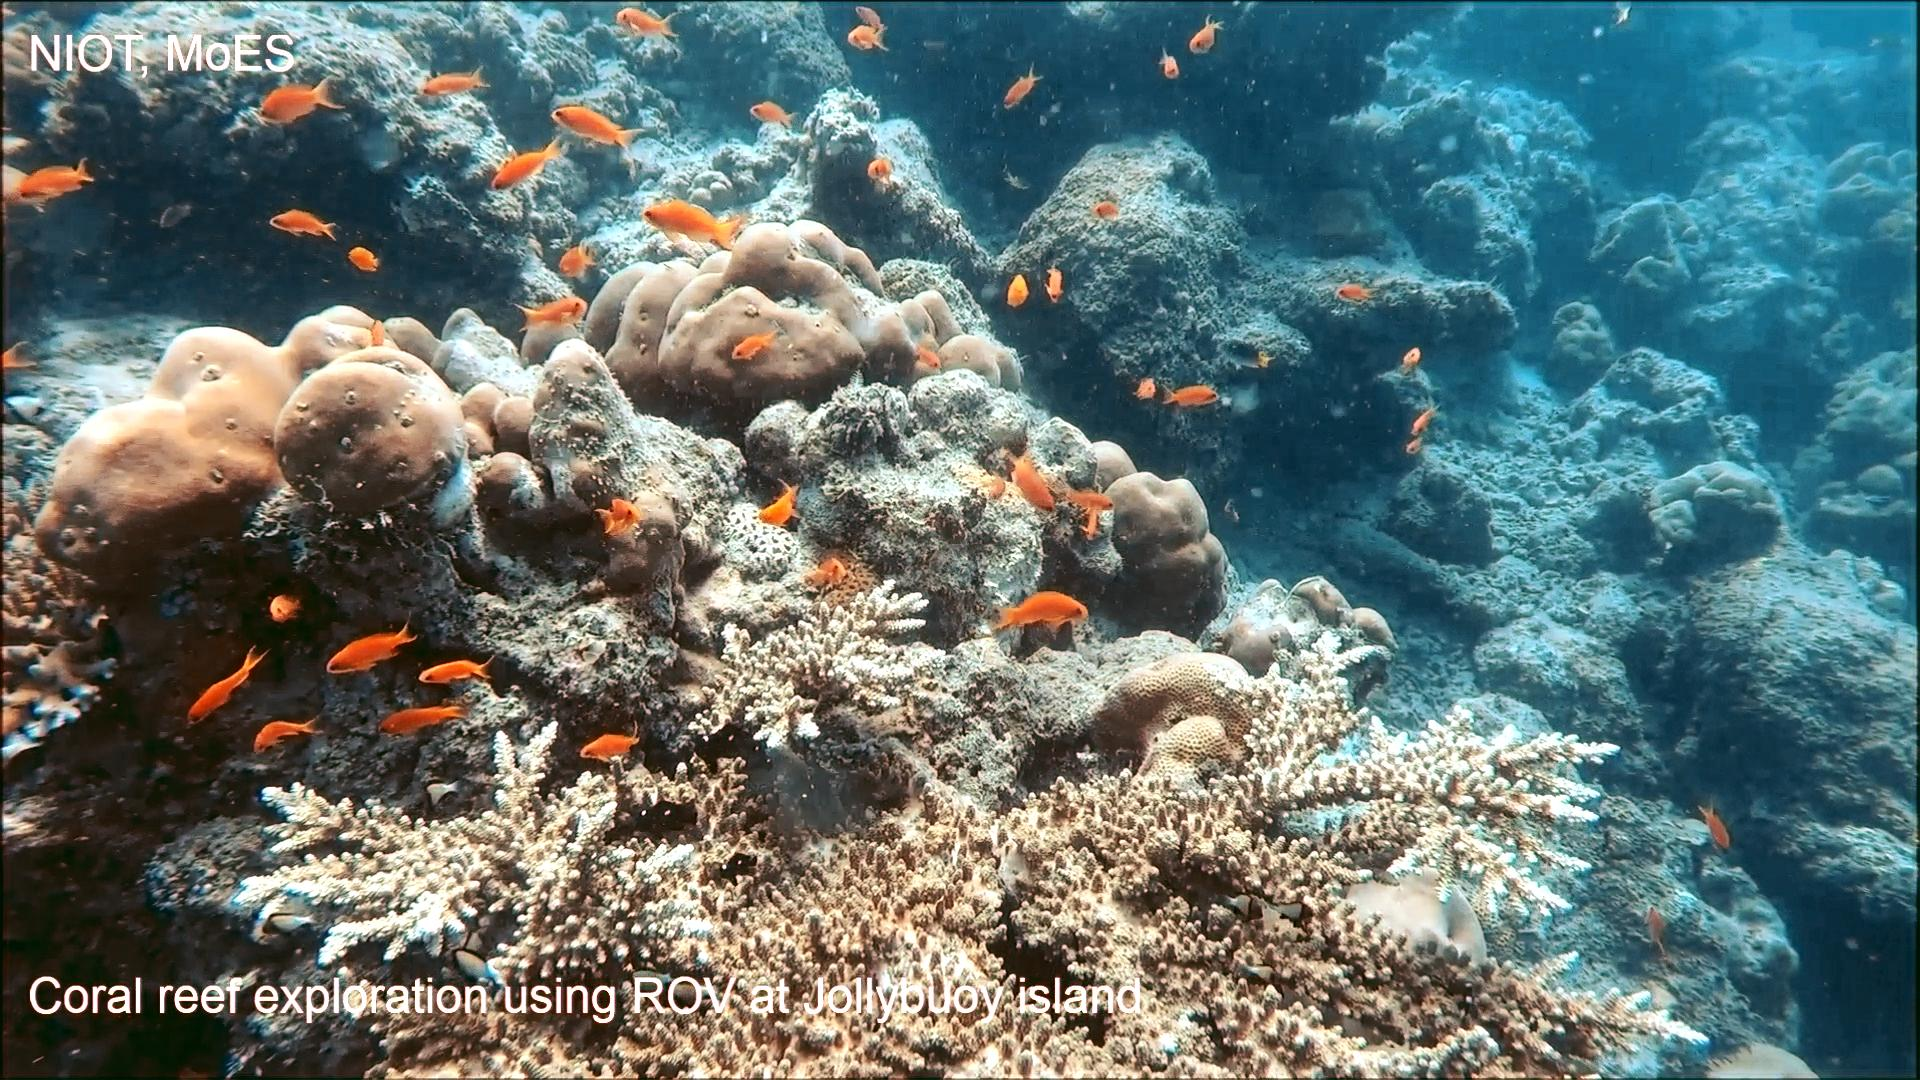Porites-Porites pukoensis: (26, 297, 475, 612), (560, 212, 1033, 421)
